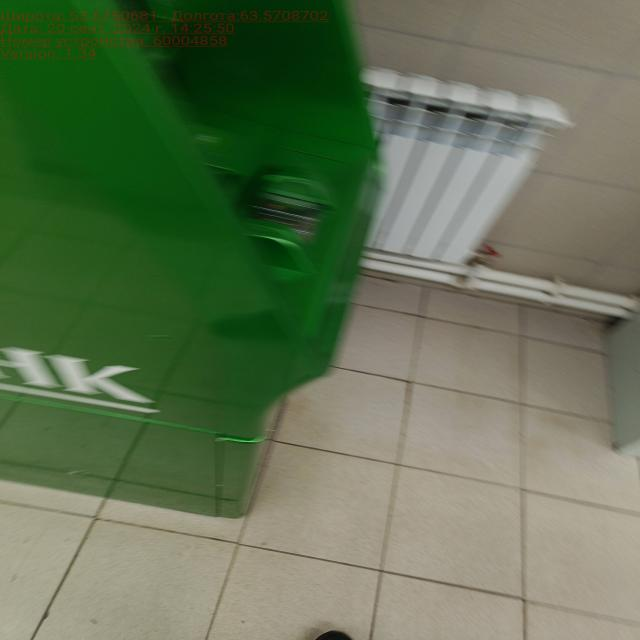bank: (0, 0, 385, 521)
